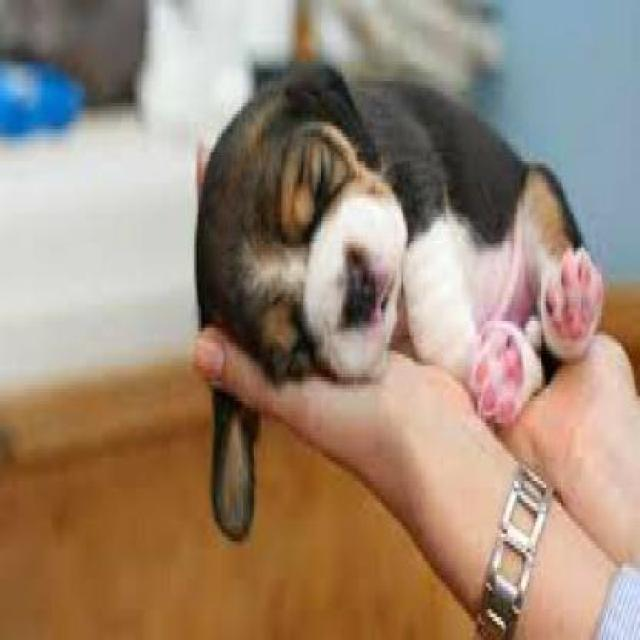Dog: (190, 49, 608, 549)
